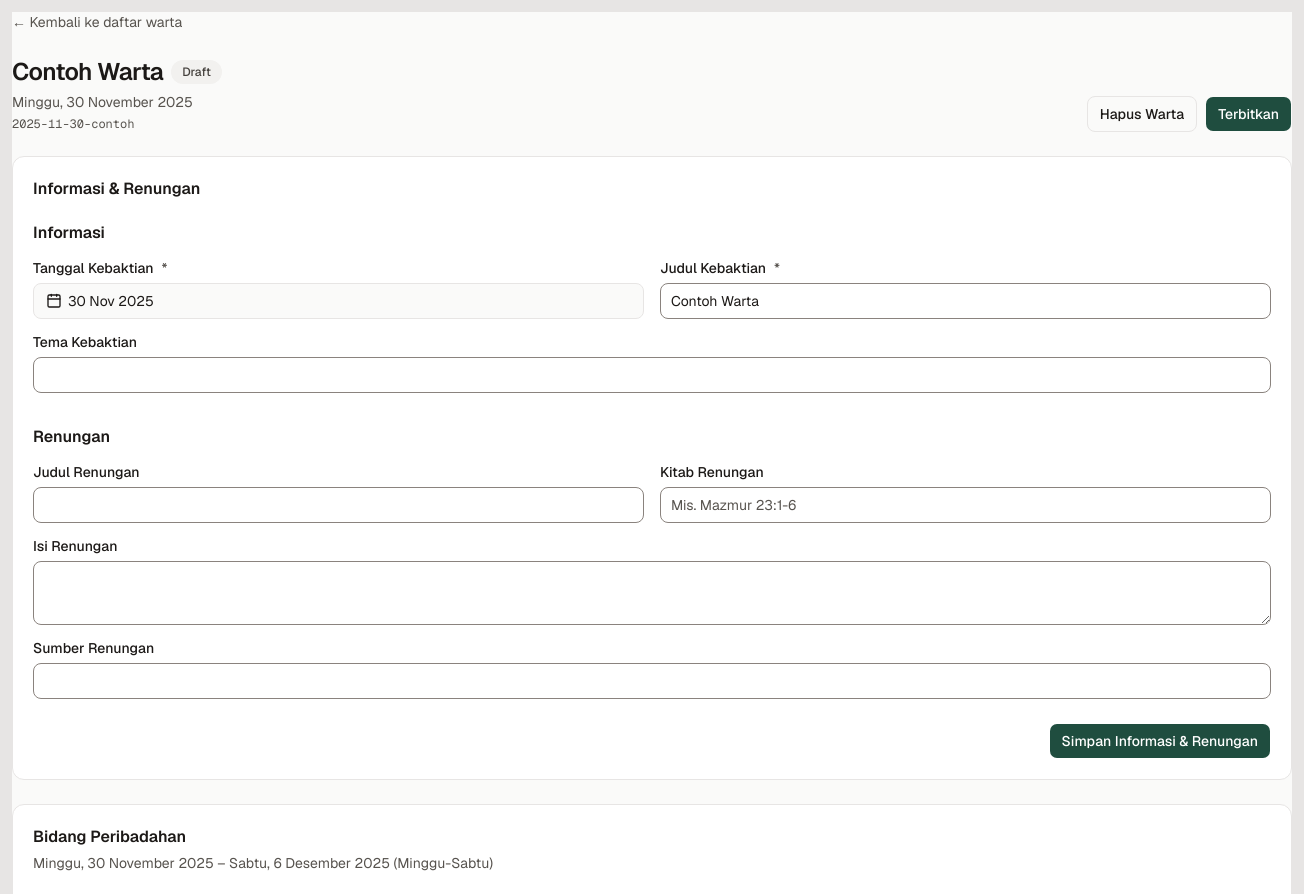
WartaEditor › Informasi & Renungan sends the updated_at it started from, then the one the server returned
Type "Tema baru" into the field labelled "Tema Kebaktian". click: (652, 375)
box: [33, 357, 1271, 393]
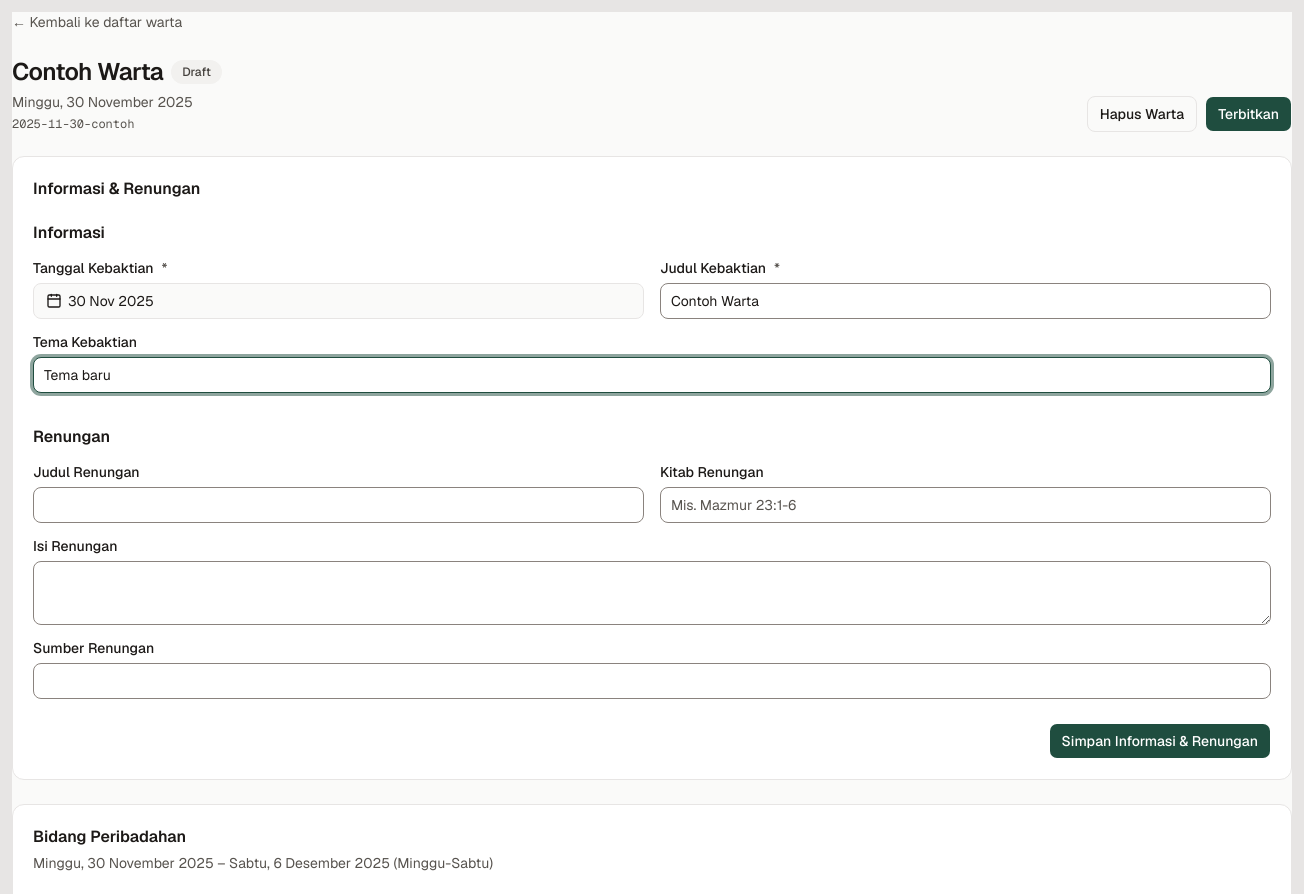
Click the button "Simpan Informasi & Renungan". click: (1160, 741)
box: [1048, 723, 1271, 759]
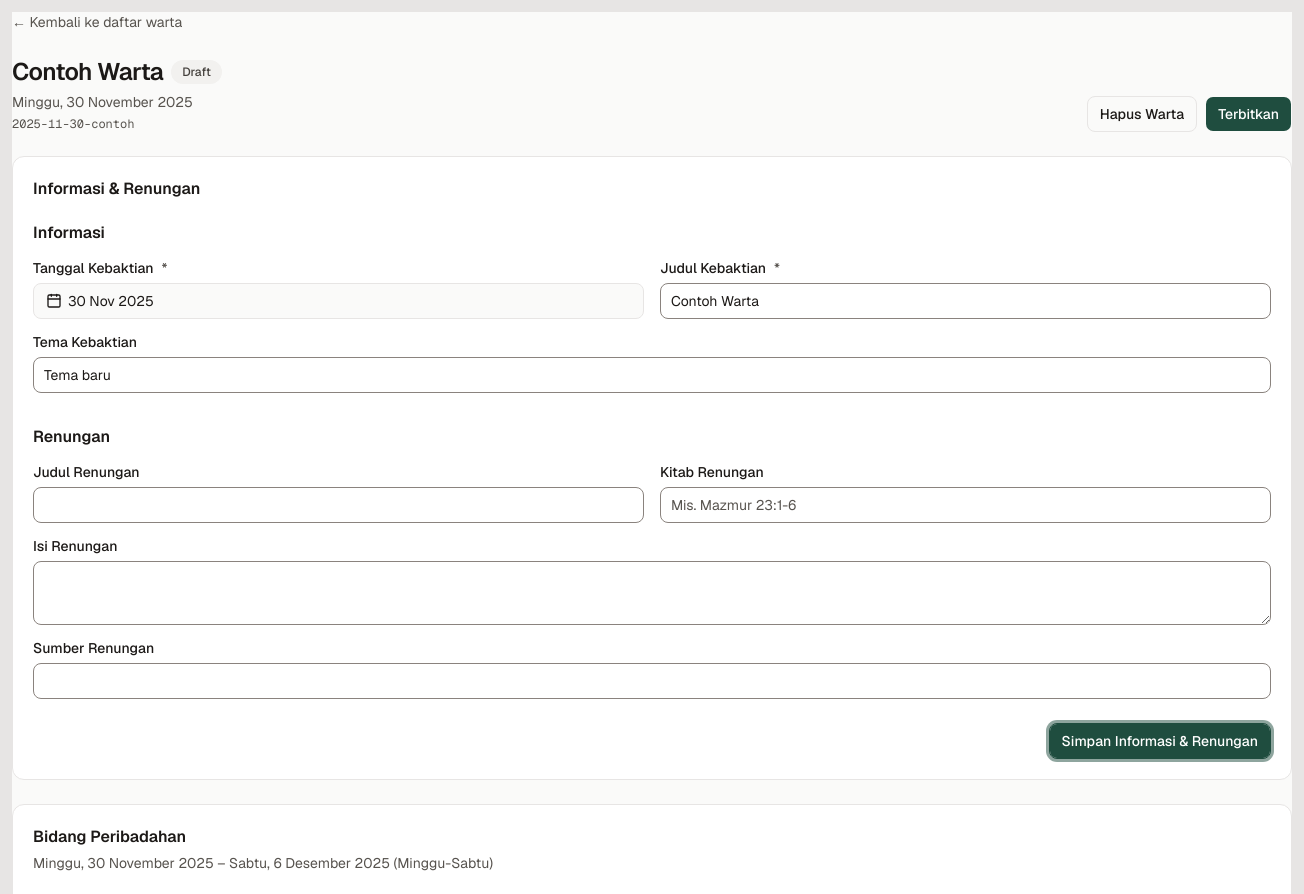
Click the button "Simpan Informasi & Renungan". click: (1160, 741)
box: [1048, 723, 1271, 759]
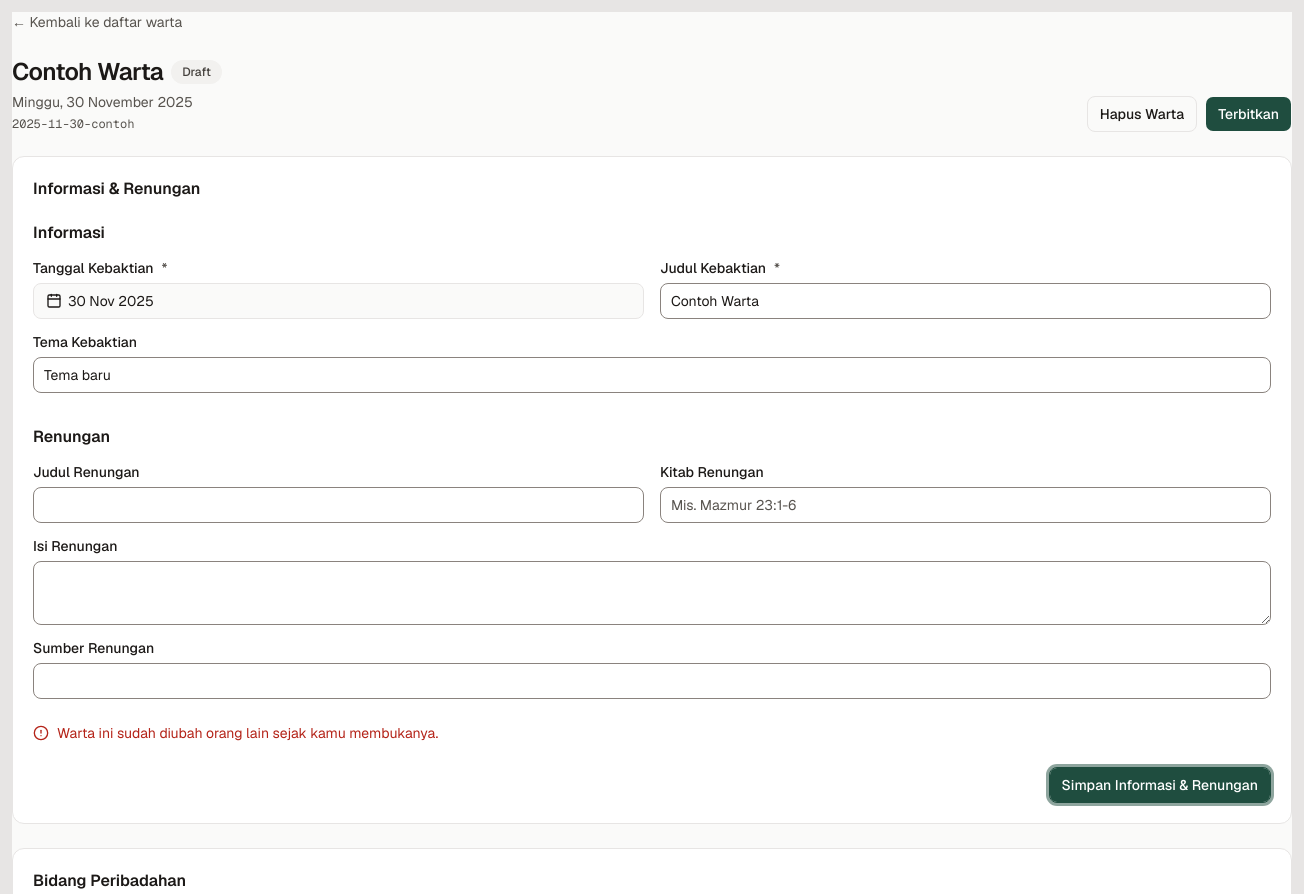
Now the message reads "Warta ini sudah diubah orang lain sejak kamu membukanya.", box [57, 724, 438, 742]
